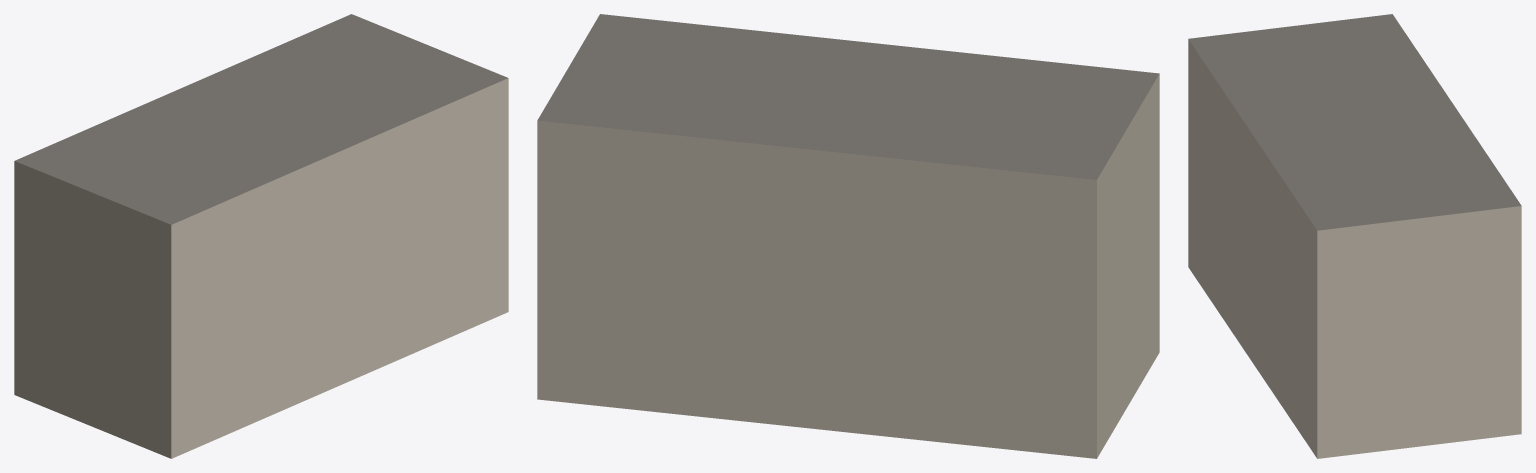
3 views of the same model, side by side, from view 1: azimuth 30°, elevation 25°; view 2: azimuth 150°, elevation 25°; view 3: azimuth 270°, elevation 25° (orthographic). The views are drawn at different scales.
Visible parts, largest first — view 1: HP-w378107094; view 2: HP-w378107094; view 3: HP-w378107094.
Part boxes in pixels (bbox=[...]): HP-w378107094: bbox=[14, 14, 508, 458]; HP-w378107094: bbox=[537, 14, 1159, 458]; HP-w378107094: bbox=[1188, 14, 1521, 458].
Bounding box in the file's own units: 30.55 × 15 × 19.87.
